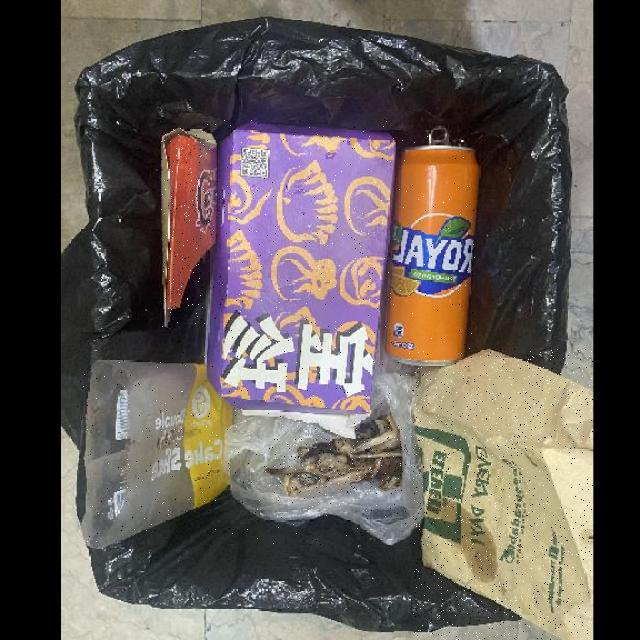biowaste: (265, 406, 403, 495)
metal: (386, 127, 480, 366)
paper: (206, 119, 397, 437), (414, 349, 593, 640), (162, 127, 217, 327)
plastic: (224, 369, 424, 544)
wrapper: (78, 352, 234, 548)
